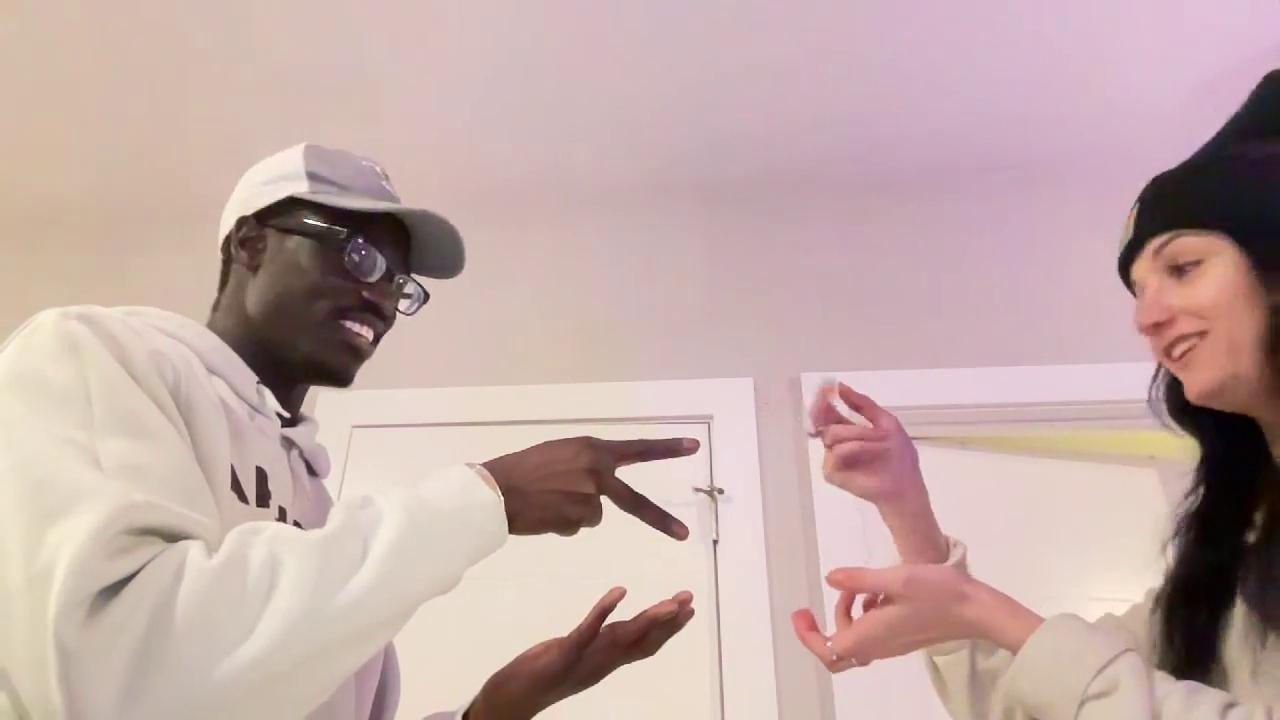Scissors: (500, 432, 700, 550)
